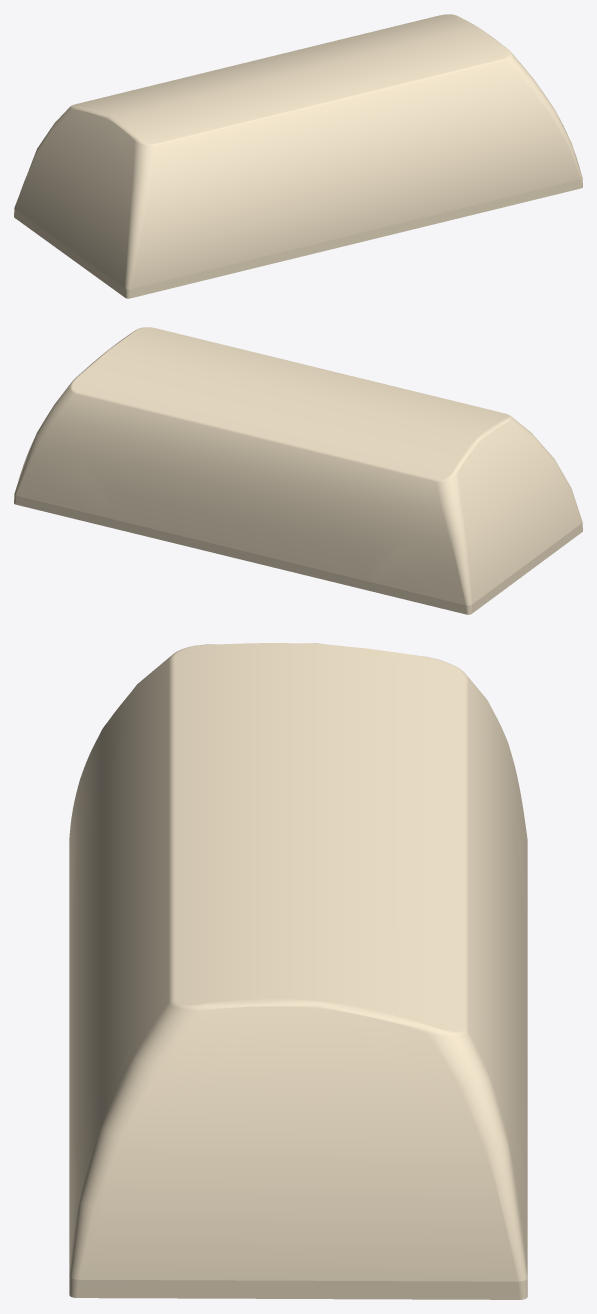
The model's file is KAT_2u_r5_convex.glb.
The picture shows the model from 3 angles, top to bottom: view 1: azimuth 30°, elevation 25°; view 2: azimuth 150°, elevation 25°; view 3: azimuth 270°, elevation 25°; orthographic projection. The views are drawn at different scales.
Visible parts, largest first — view 1: Object.350; view 2: Object.350; view 3: Object.350.
Boxes of the visible parts, <box> form: Object.350: <box>14,14,582,298</box>; Object.350: <box>14,327,582,614</box>; Object.350: <box>69,643,527,1299</box>.
Size of the model in its own units: 41.95 by 11.22 by 18.2.
